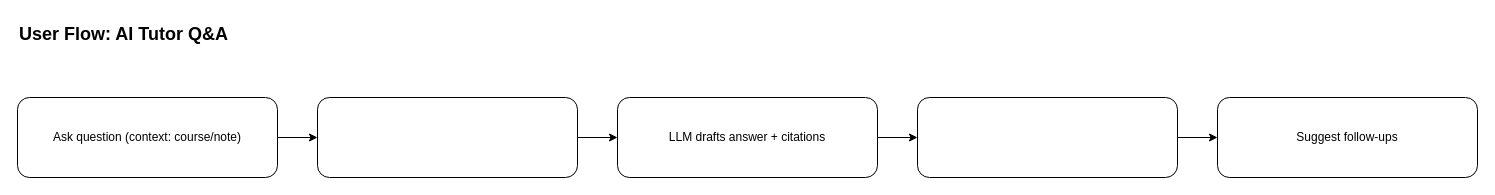
The diagram is 1495 pixels wide and 195 high, and some of its shapes have lost their labels. The shapes that lost their labels are listed below. From the top down, each one's centre as x and y in pixels, then its label:
At pixel 447 137: "Retrieve relevant chunks (pgvector)".
At pixel 1047 137: "User rates answer; save to knowledge".
